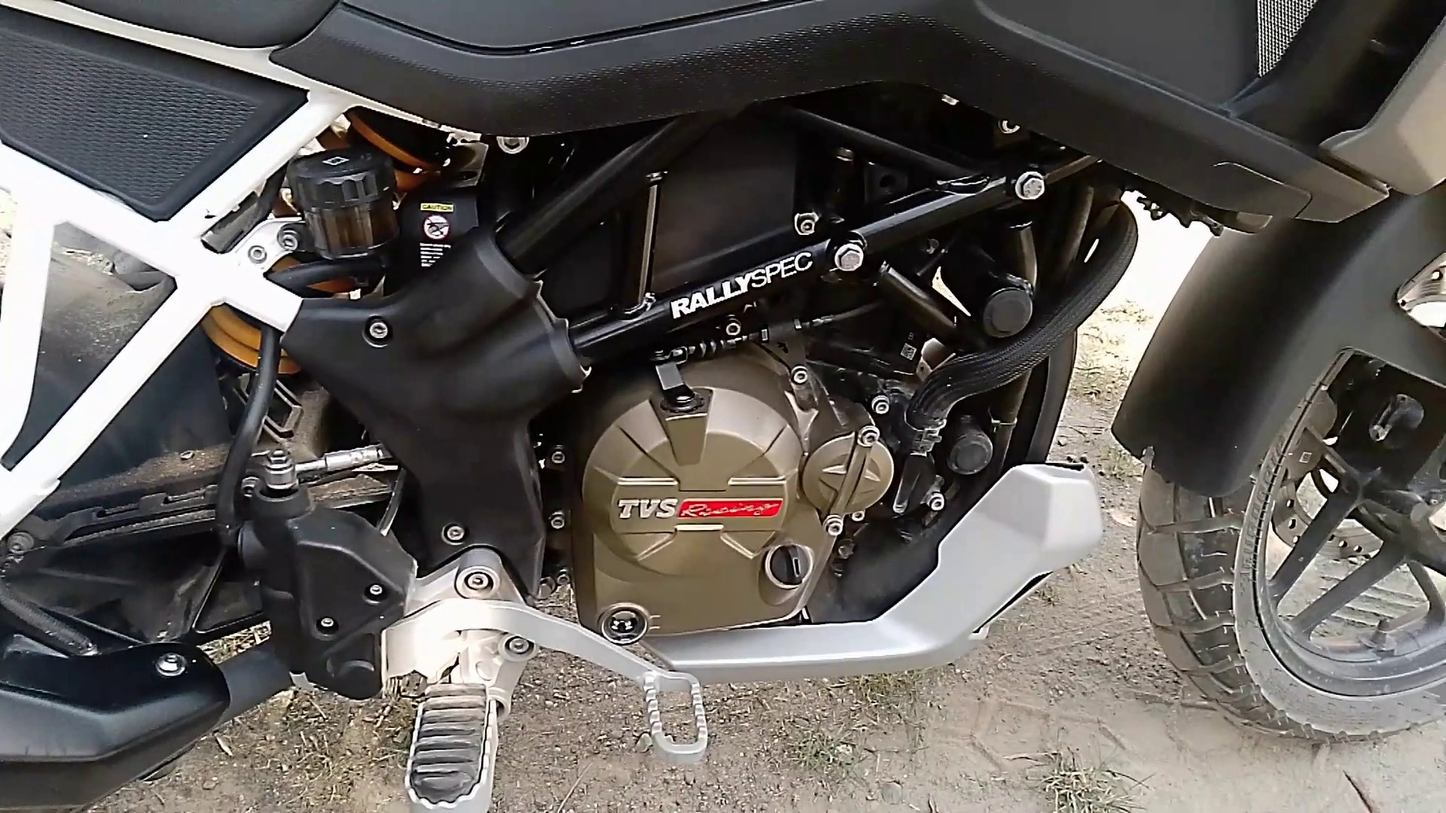engine: (544, 252, 919, 681)
oil_cap: (757, 521, 823, 606)
oil_marker: (595, 585, 670, 661)
